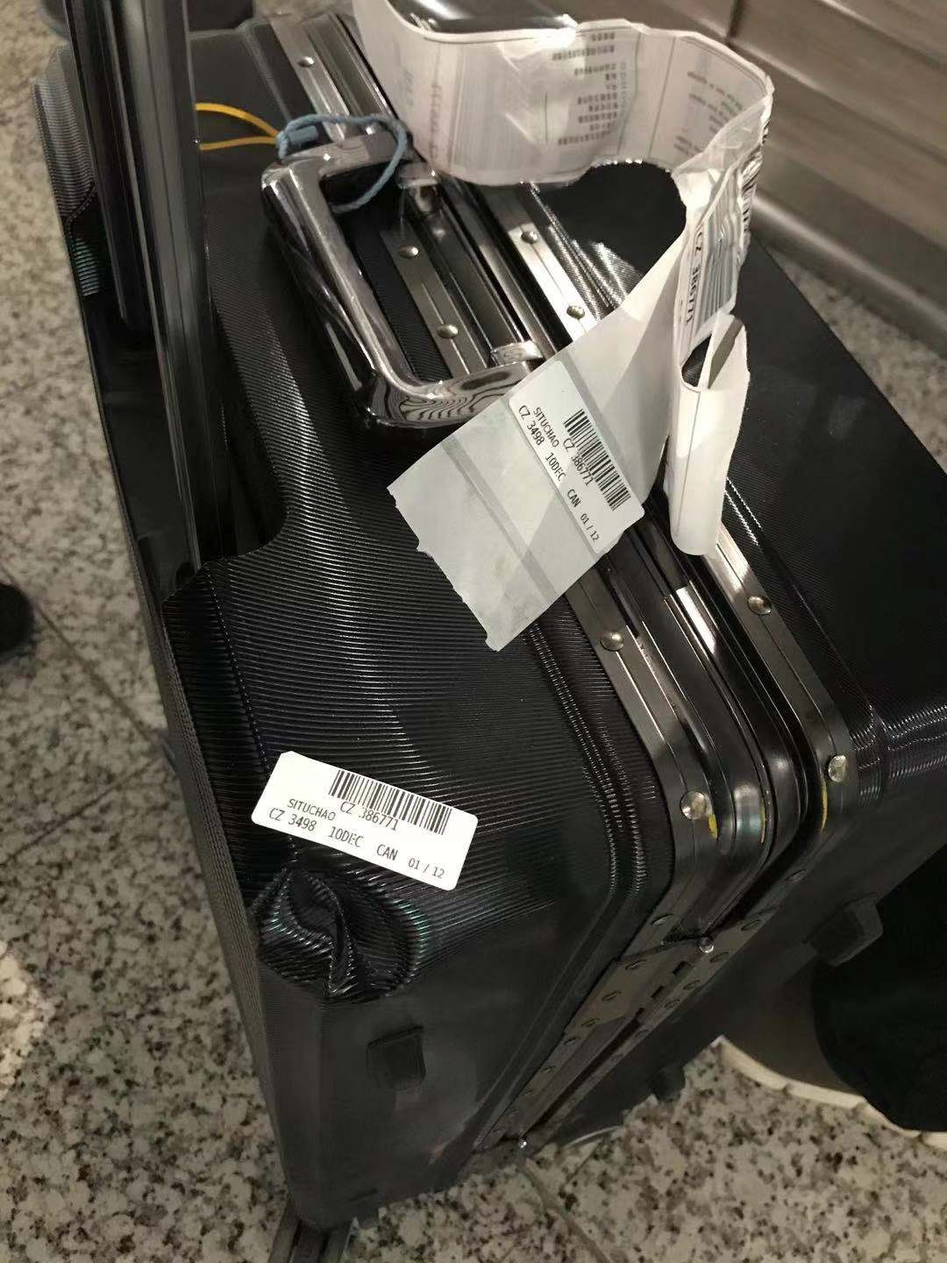rupture: (246, 850, 432, 1003)
